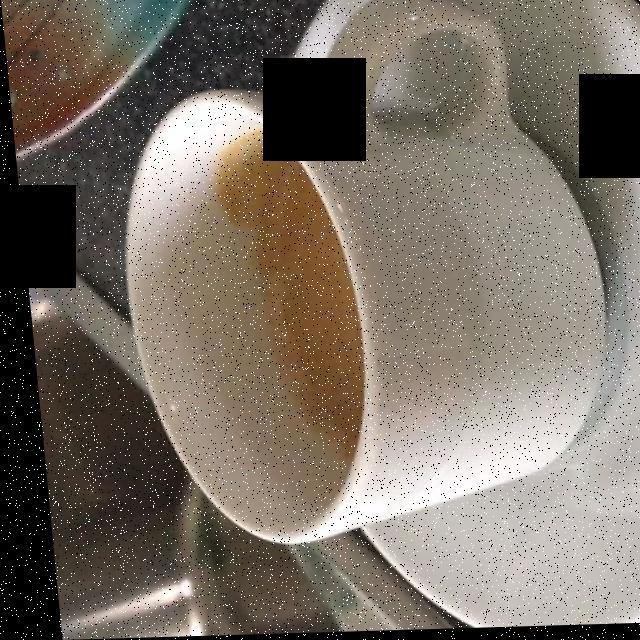espresso: (226, 140, 353, 469)
